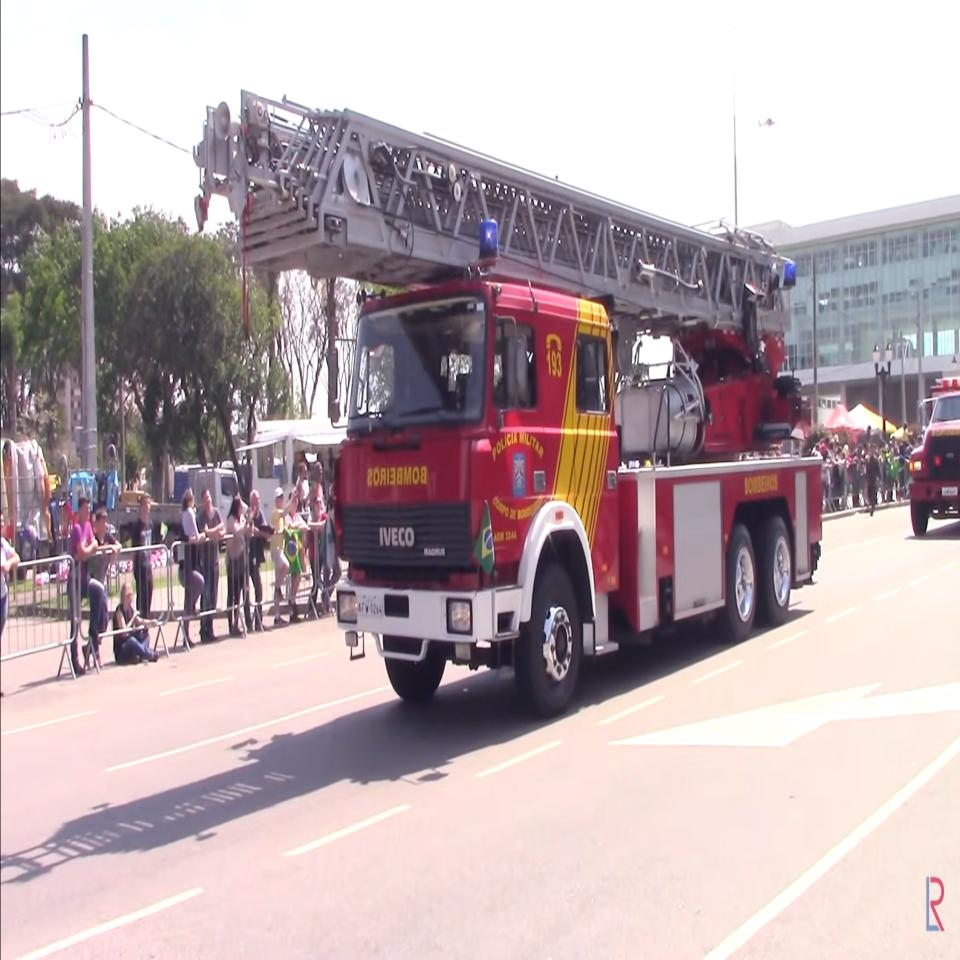viatura: (192, 84, 823, 717)
